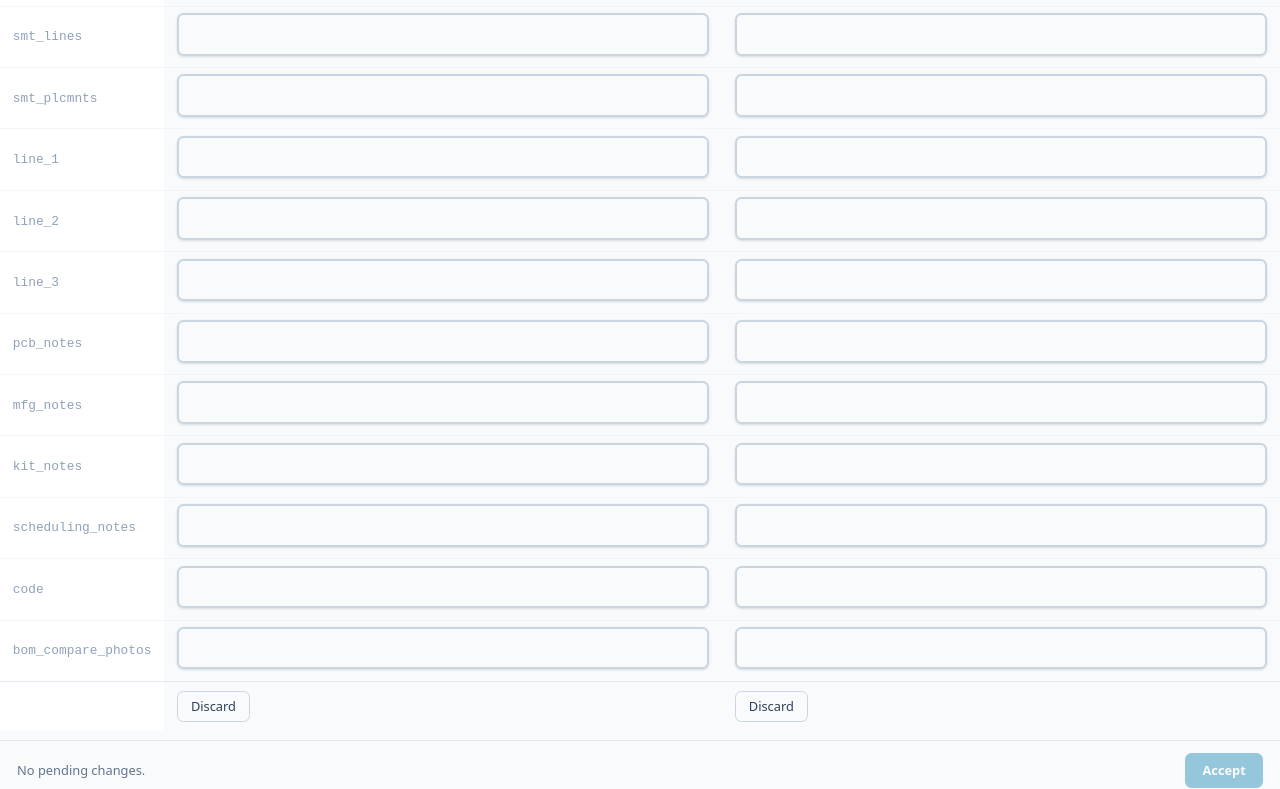
ConflictRowComparison — G1.6: toggleDiscard invariant › discarded cell textarea is disabled (G-3.1.A)
(page scrolled)
Click the button with test id "conflict-discard-btn-10".
click(214, 706)  # box [177,690,250,722]
(page scrolled)
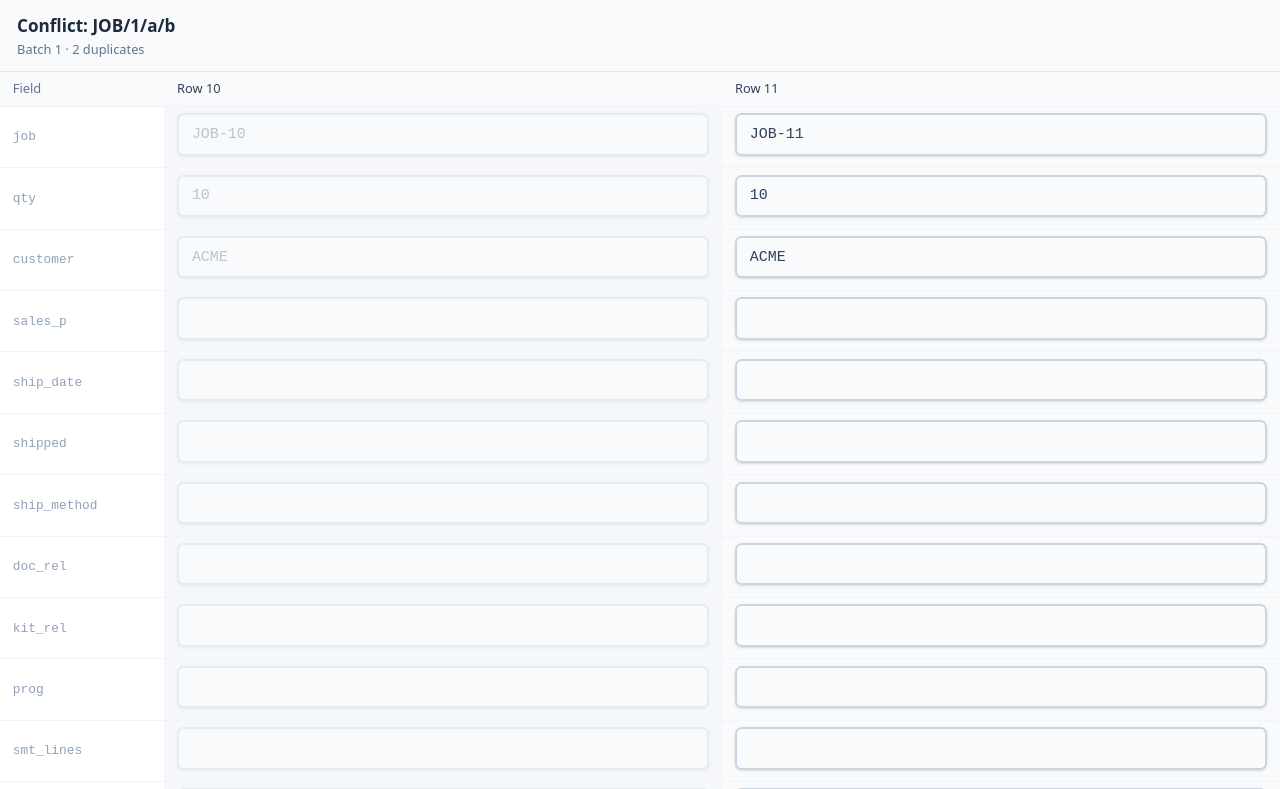
Expected: the text box with test id "conflict-cell-10-raw_job" is disabled, [177,113,709,156]
